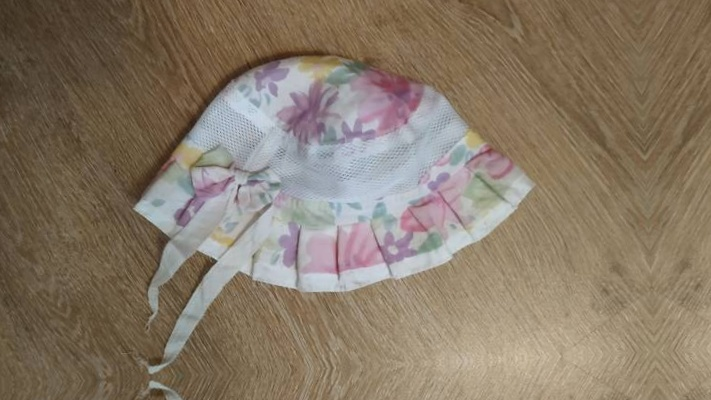Hat: (92, 16, 558, 343), (111, 394, 578, 400)
